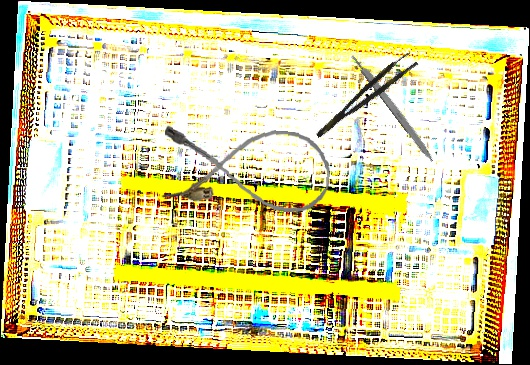Cannula: (158, 120, 334, 216)
Scalpel Handle: (349, 51, 438, 164)
Tissue Forceps: (309, 50, 419, 140)
